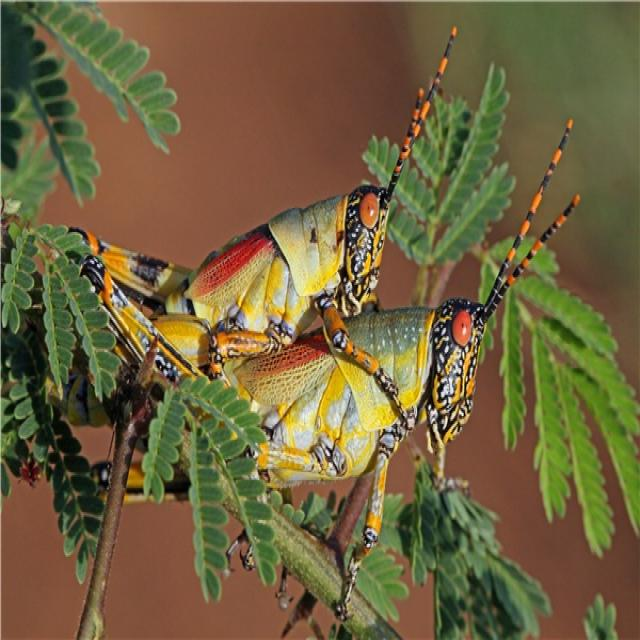ZhaMeng: (28, 130, 416, 358), (129, 289, 513, 504)
